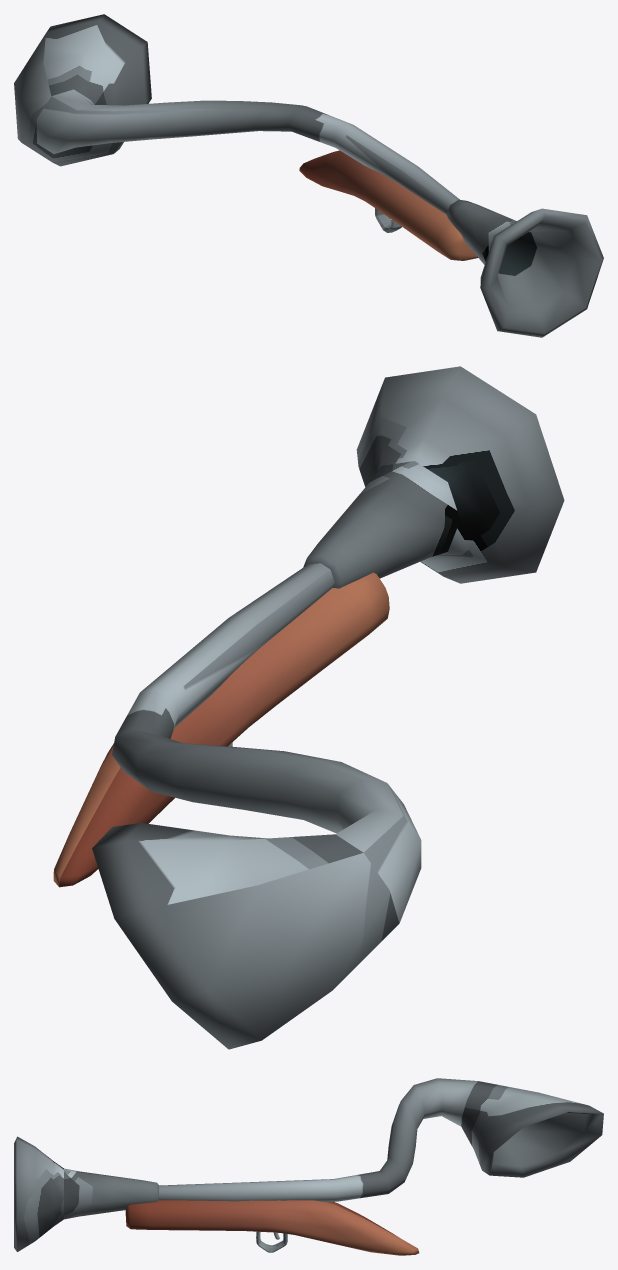
Rendered from GUN.fbx.
3 views of the same model, one above another, from view 1: azimuth 30°, elevation 25°; view 2: azimuth 150°, elevation 25°; view 3: azimuth 270°, elevation 25° (orthographic). The views are drawn at different scales.
Parts seen in each view (by area): view 1: Cube.002; view 2: Cube.002; view 3: Cube.002.
Part boxes in pixels (x1=…): Cube.002: x1=14, y1=14, x2=603, y2=337; Cube.002: x1=53, y1=366, x2=564, y2=1049; Cube.002: x1=14, y1=1078, x2=603, y2=1255.
Bounding box in the file's own units: 1027 × 450 × 2106.
